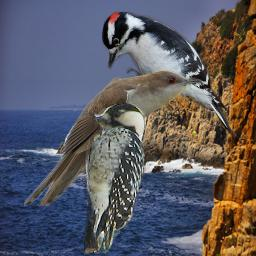Cuckoo: (24, 70, 204, 206)
Woodpecker: (100, 9, 239, 141), (84, 102, 146, 254)
